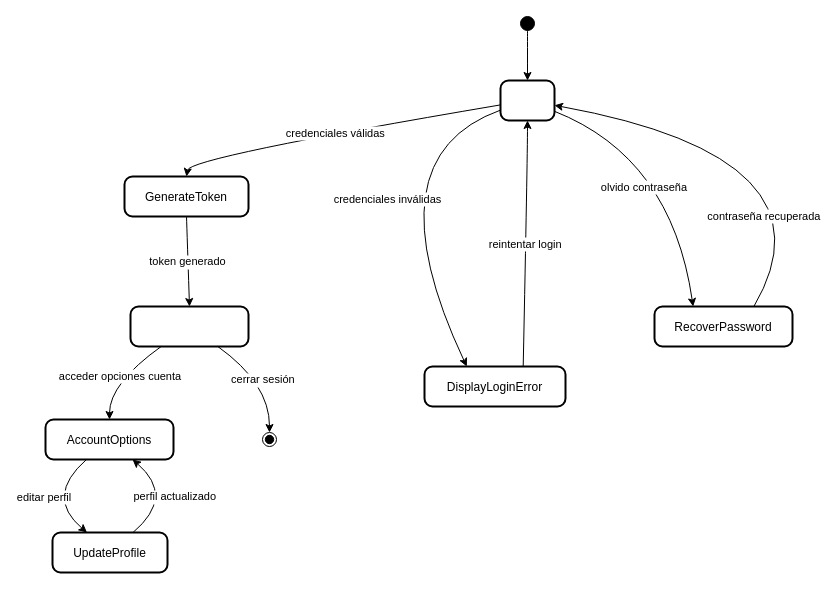
The diagram is 839 pixels wide and 589 high, and some of its shapes have lost their labels. Here are the shapes that lost their labels. From the top down, the centre of each, then its label:
At [527,100]: "Login".
At [189,326]: "Authenticated".
